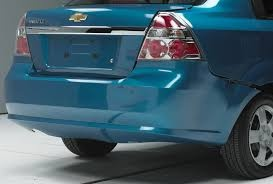Dent: (208, 60, 269, 119)
